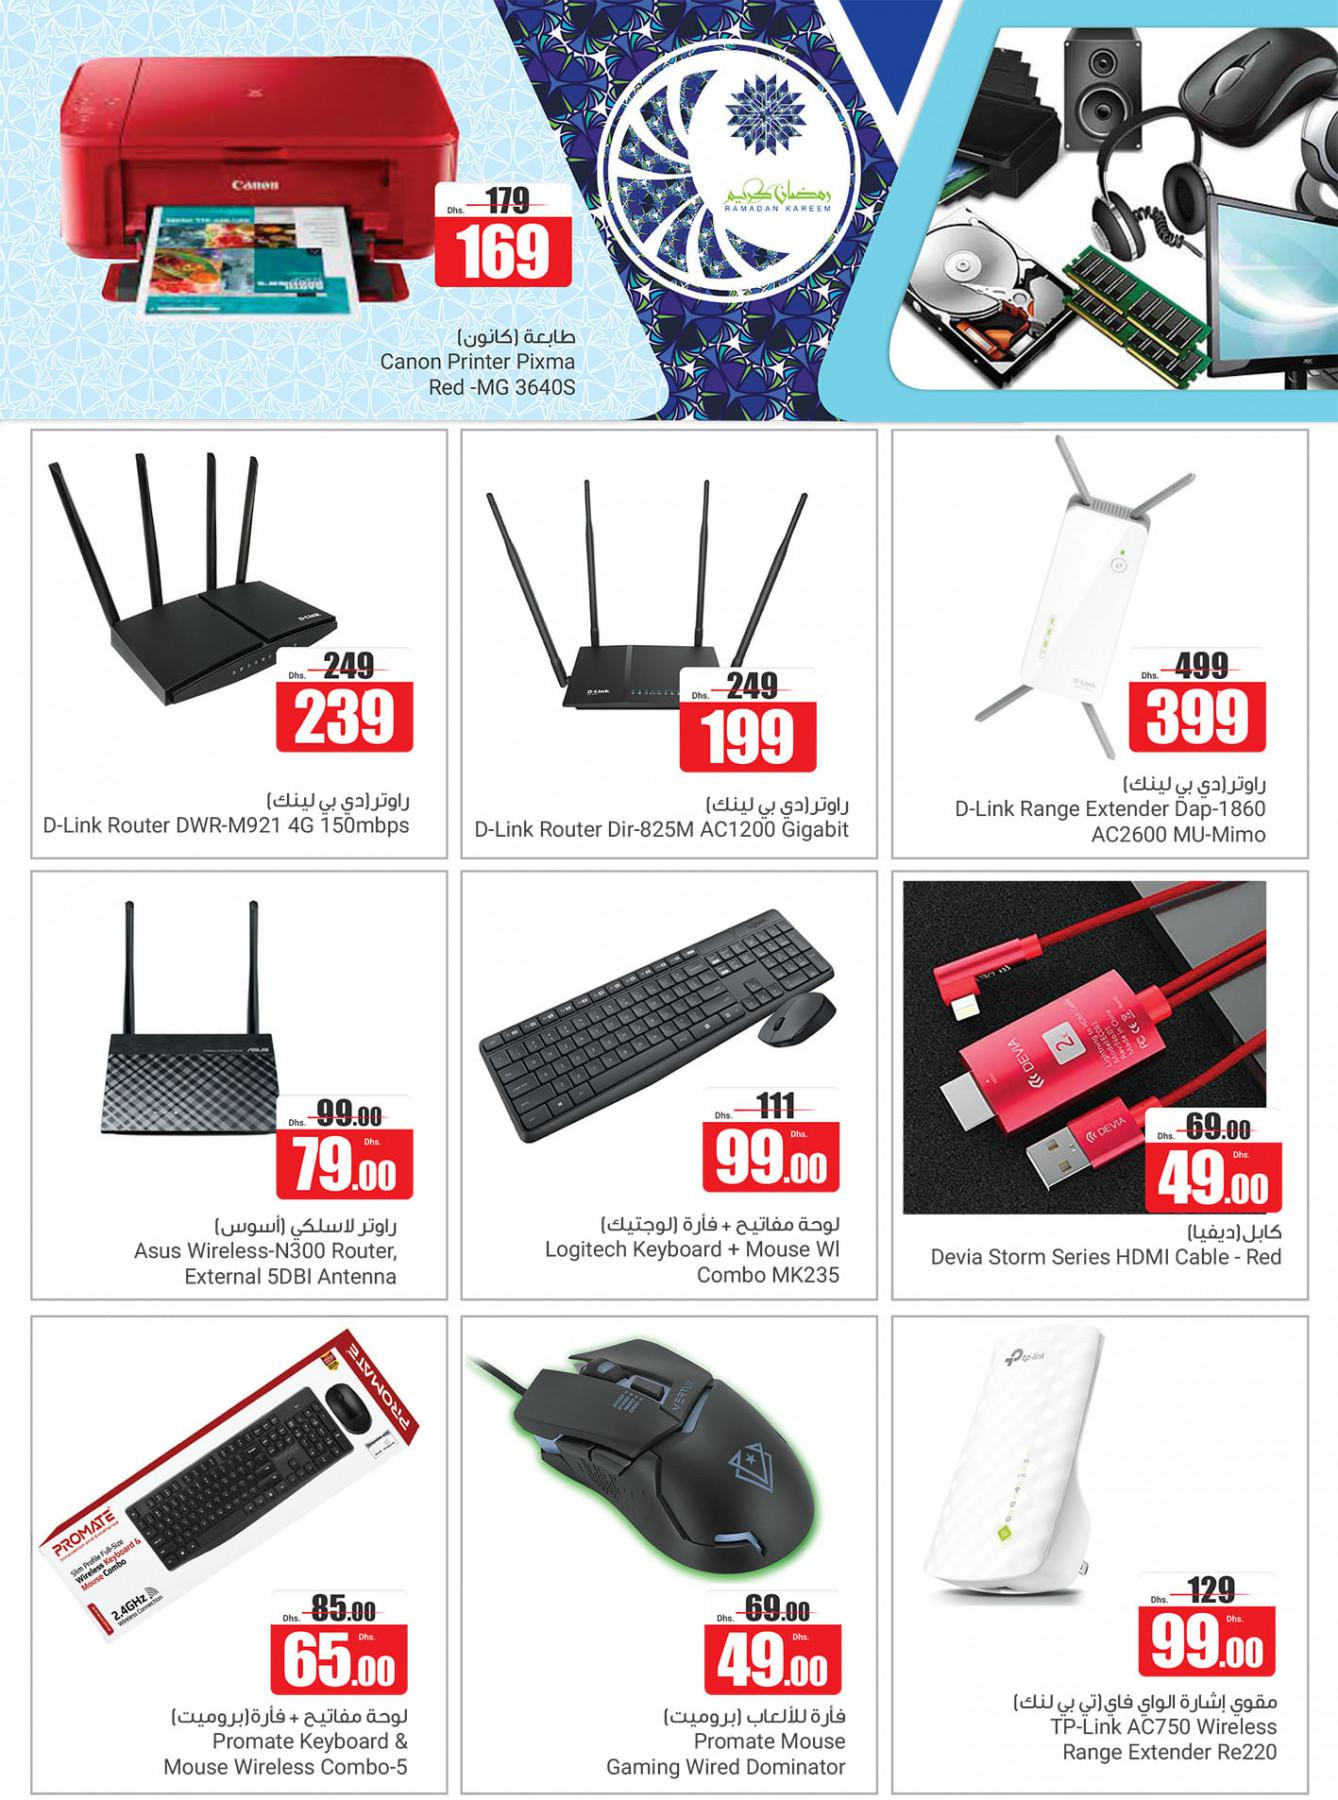text: (939, 760, 1286, 859), (461, 785, 870, 859), (528, 1203, 863, 1291), (38, 776, 419, 852), (114, 1206, 419, 1294), (587, 1695, 864, 1786), (150, 1695, 423, 1787), (921, 1217, 1294, 1283), (370, 315, 590, 409)
